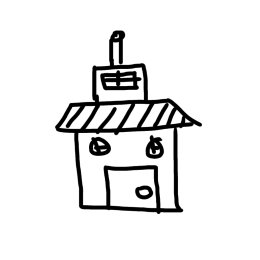chimney: (107, 22, 131, 69)
closed_window: (101, 68, 139, 96), (140, 132, 170, 162), (83, 133, 114, 162)
door: (95, 162, 165, 215)
roof: (38, 92, 208, 135)
wall: (61, 125, 188, 226)
